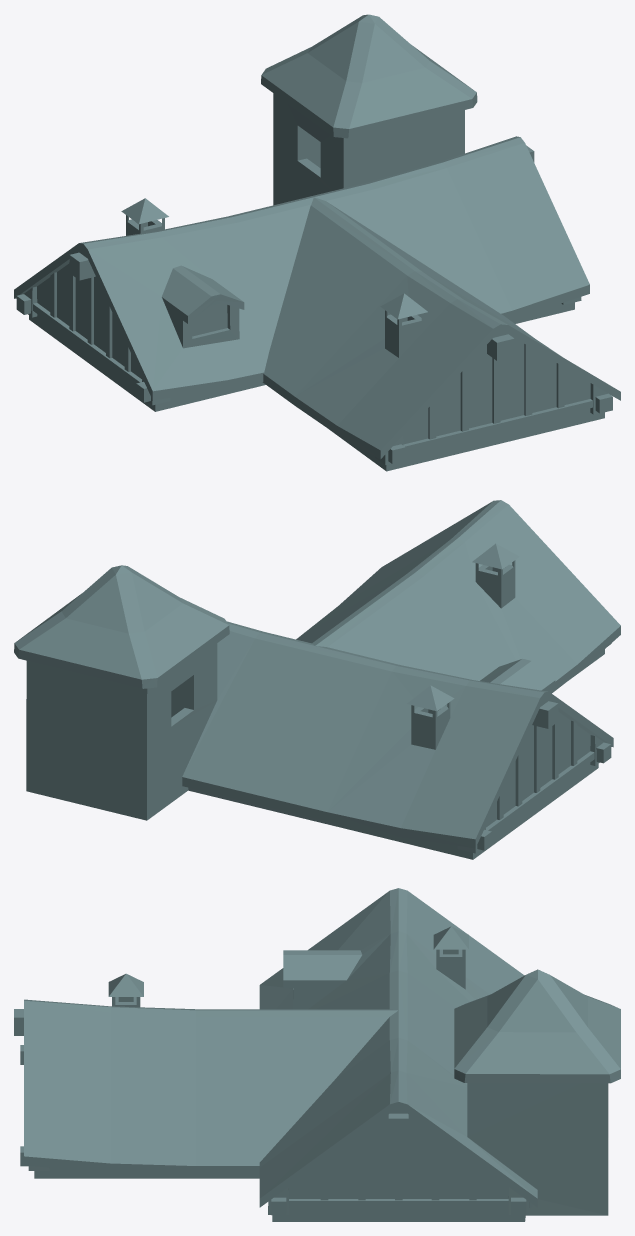
The model's file is house_01_top.fbx.
3 renders of one model, top to bottom at view 1: azimuth 30°, elevation 25°; view 2: azimuth 150°, elevation 25°; view 3: azimuth 270°, elevation 25°, orthographic.
Parts seen in each view (by area): view 1: obj0.001; view 2: obj0.001; view 3: obj0.001.
Boxes of the visible parts, box(x1,y1,x2,y2) form: obj0.001: box(14, 14, 620, 471); obj0.001: box(14, 500, 620, 859); obj0.001: box(14, 888, 620, 1221).
Size of the model in its own units: 15.28 by 6.95 by 17.63.
